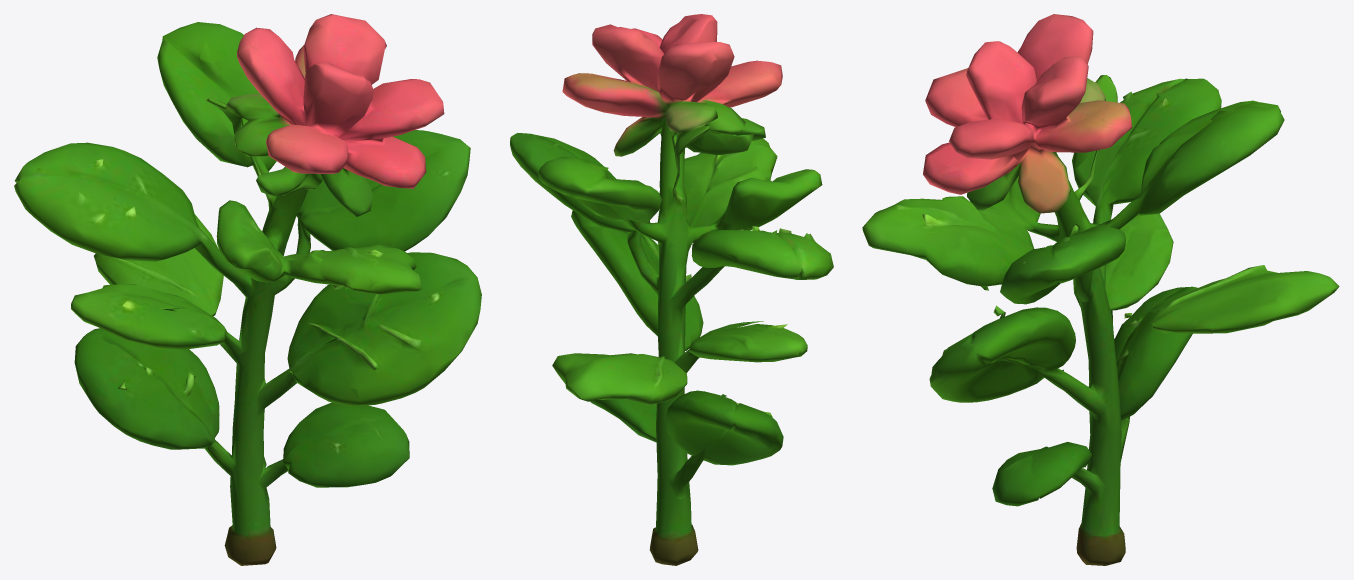
The model's file is flower.glb.
3 renders of one model, left to right at view 1: azimuth 30°, elevation 25°; view 2: azimuth 150°, elevation 25°; view 3: azimuth 270°, elevation 25°, orthographic. The views are drawn at different scales.
Parts seen in each view (by area): view 1: tripo_node_22b8c2be-facb-4213-b95a-ac580b732cad; view 2: tripo_node_22b8c2be-facb-4213-b95a-ac580b732cad; view 3: tripo_node_22b8c2be-facb-4213-b95a-ac580b732cad.
Boxes of the visible parts, x1,y1,x2,y2 form: tripo_node_22b8c2be-facb-4213-b95a-ac580b732cad: (14,14,481,565); tripo_node_22b8c2be-facb-4213-b95a-ac580b732cad: (510,14,833,565); tripo_node_22b8c2be-facb-4213-b95a-ac580b732cad: (862,14,1339,565).
Size of the model in its own units: 0.7464 by 1 by 0.8069.
1 material, 1 textured.
